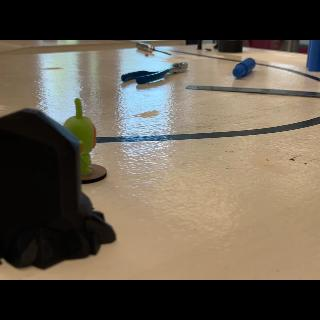teletubby: (63, 98, 96, 174)
